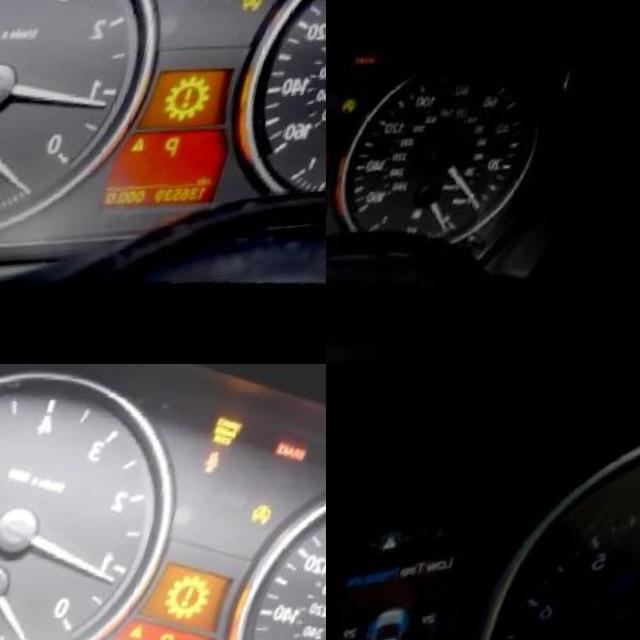Low fuel level: (435, 216, 451, 230)
